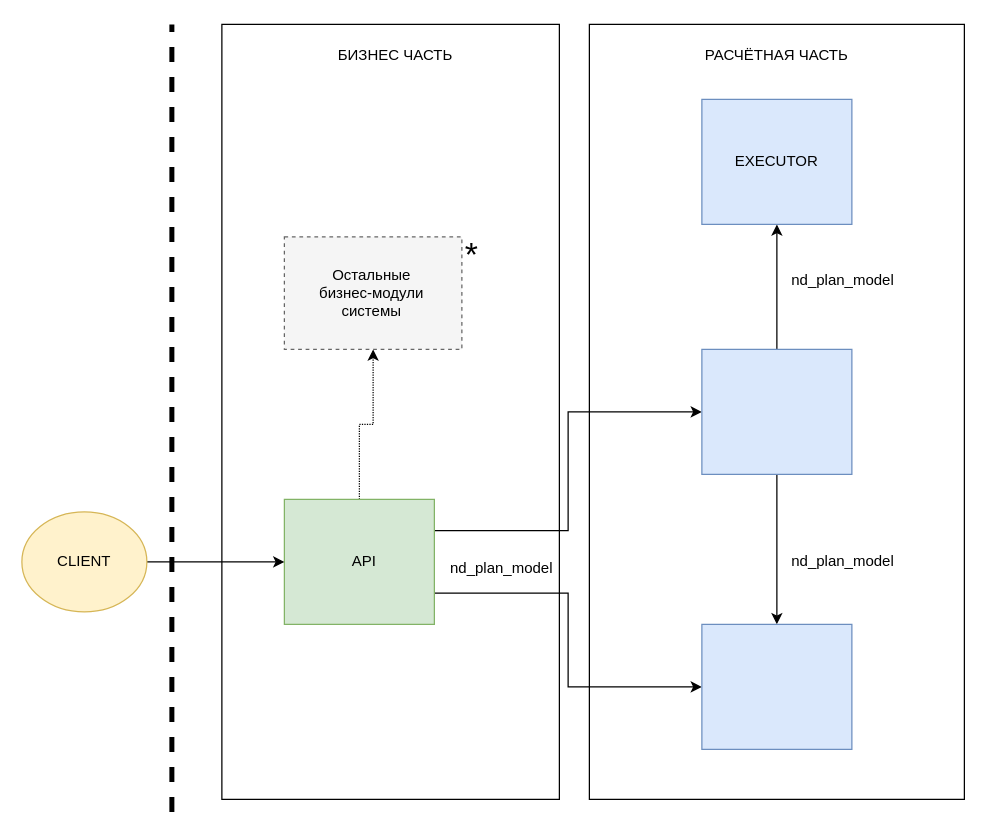
The diagram is 986 pixels wide and 836 high, and some of its shapes have lost their labels. Each missing label, with the centre of its shape:
"ORCHESTRATOR" goes at (776,411).
"STORAGE" goes at (776,686).
